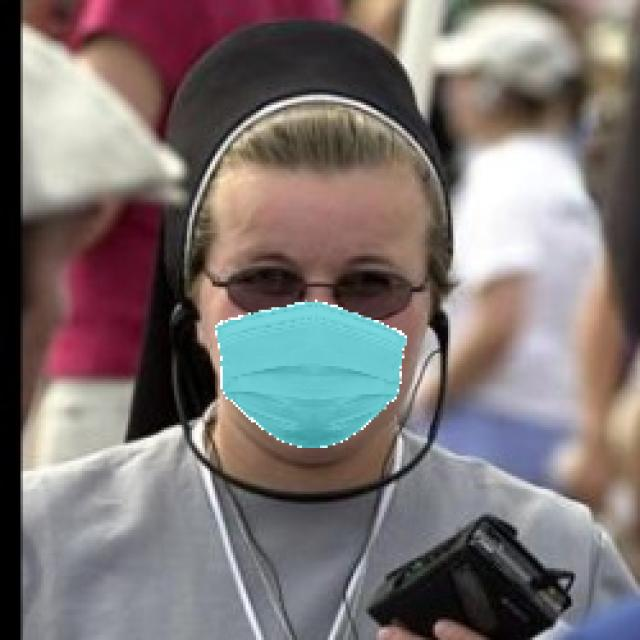mask: (211, 319, 401, 444)
